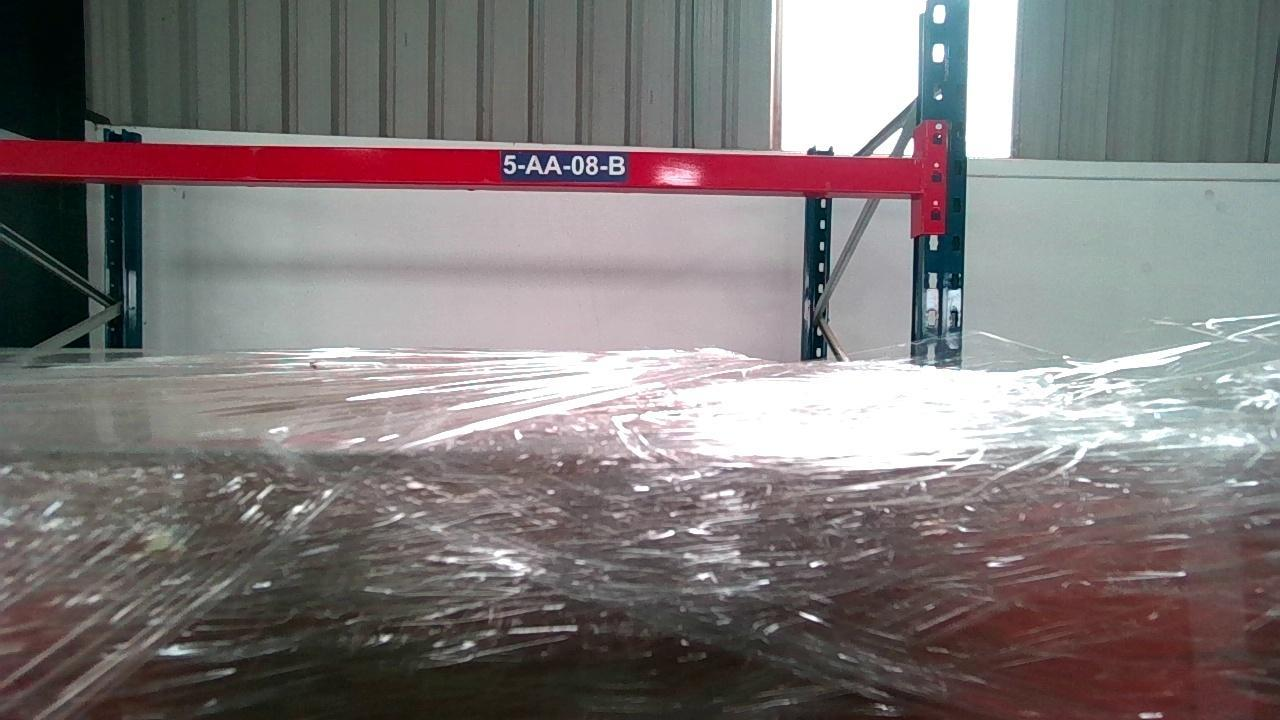h_rack: (0, 137, 919, 190)
